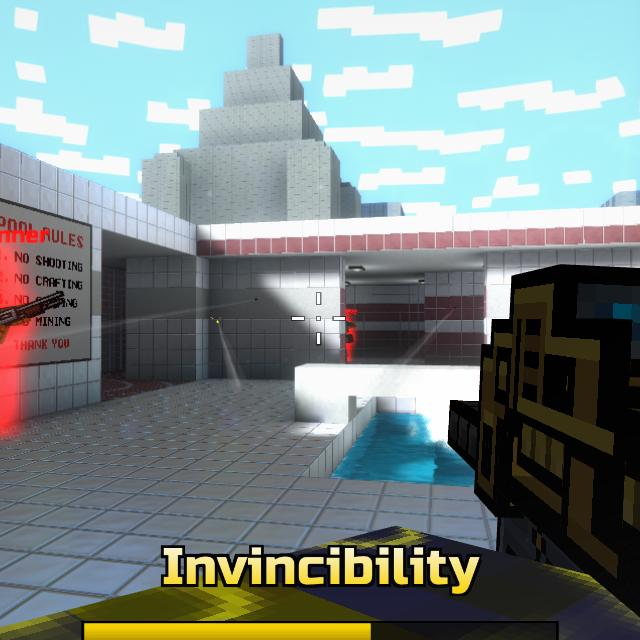Enemy: (345, 321, 354, 363)
